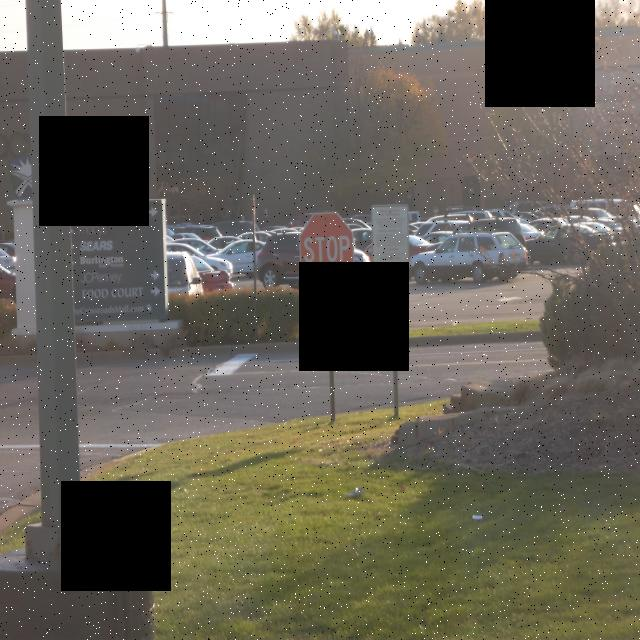regulatory: (371, 202, 410, 267), (376, 276, 411, 339)
stop: (291, 209, 360, 285)
